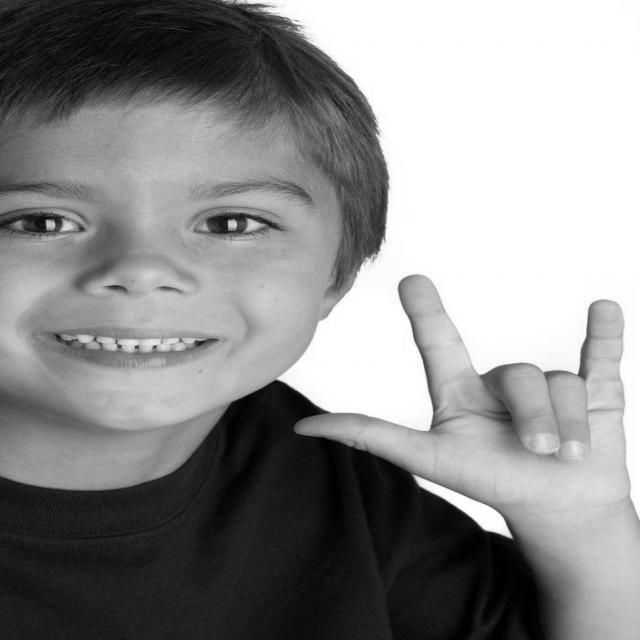i love you: (285, 265, 640, 530)
